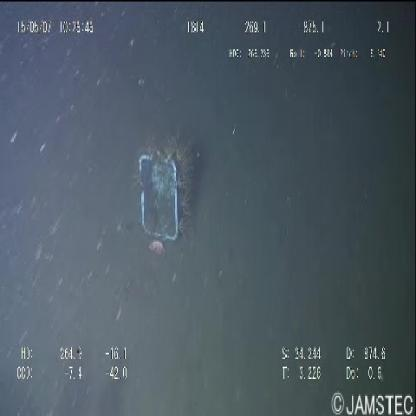Rác: (128, 136, 188, 262)
